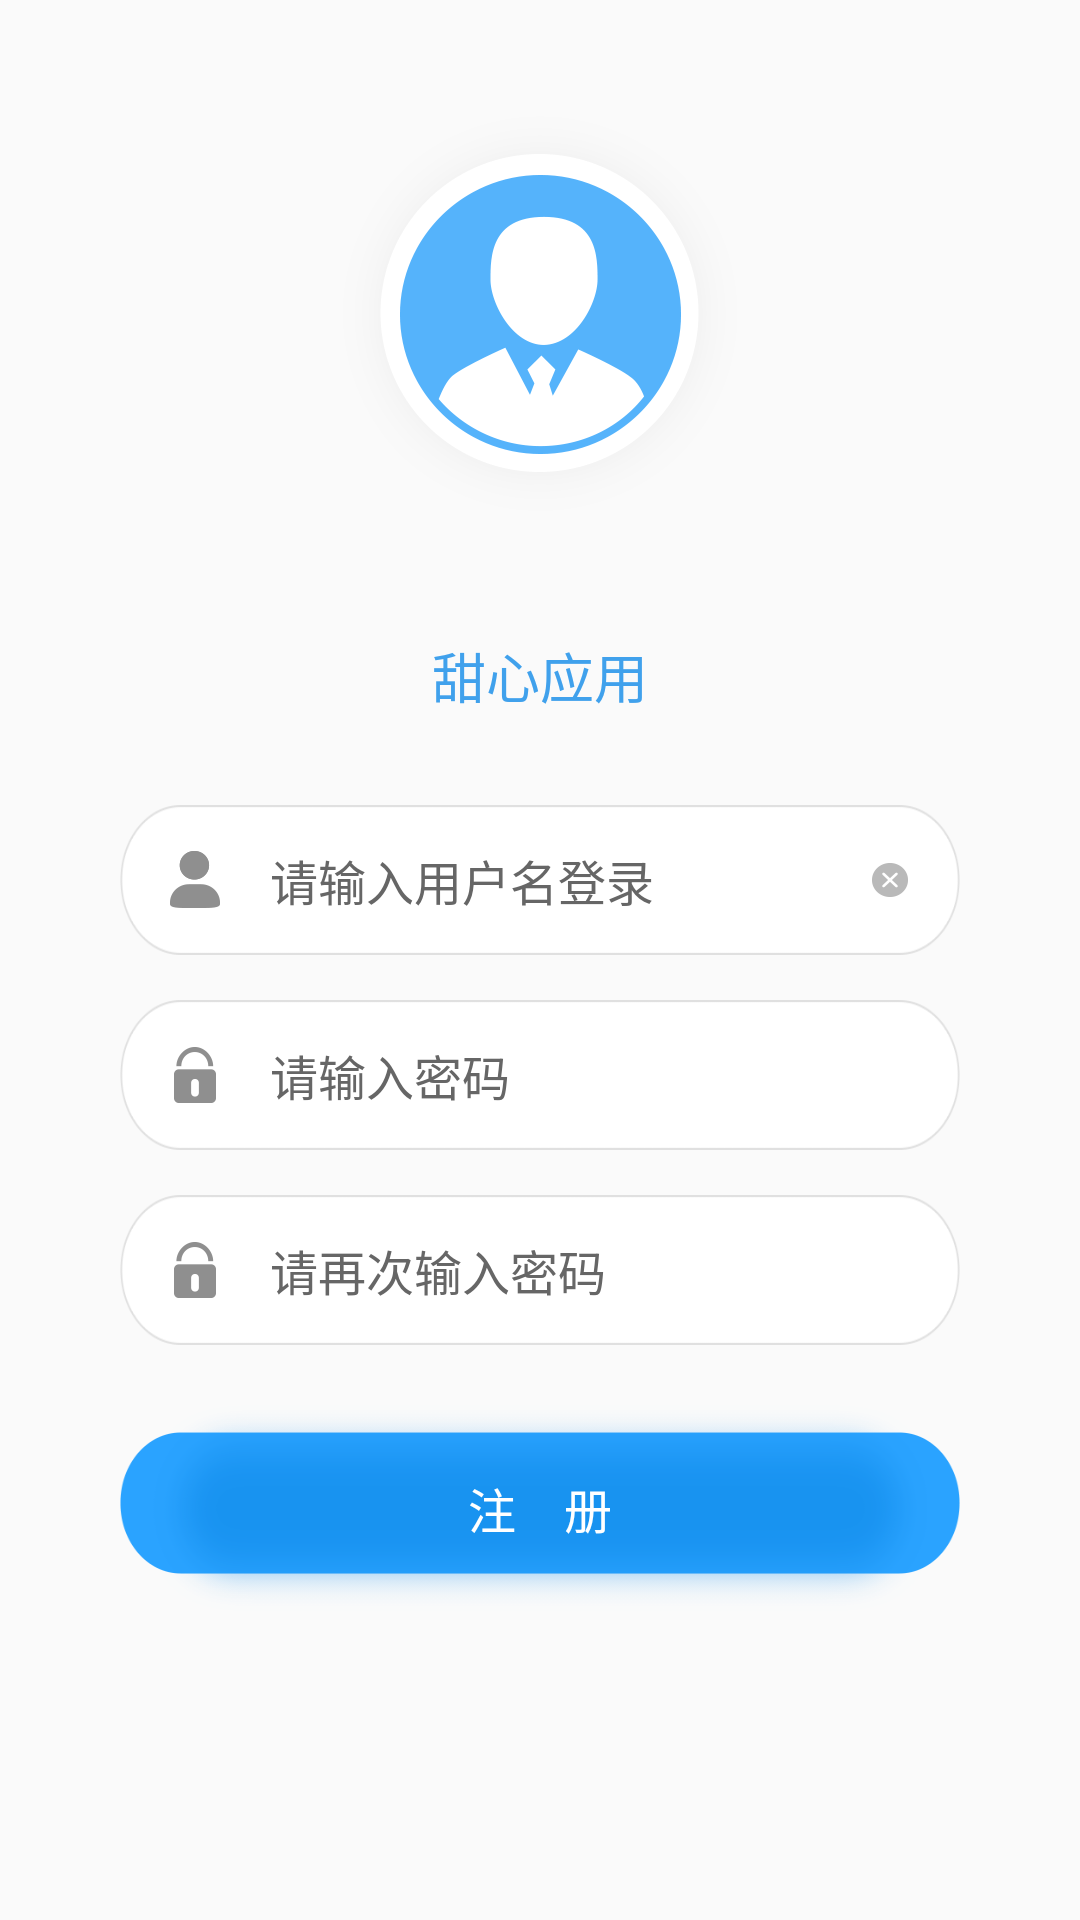

Icon click points for this 1080x1920 phone screenshot, format point (x, y):
login: point (540, 314)
login clear: point (890, 880)
login name: point (195, 879)
login password: point (195, 1075), point (195, 1270)
